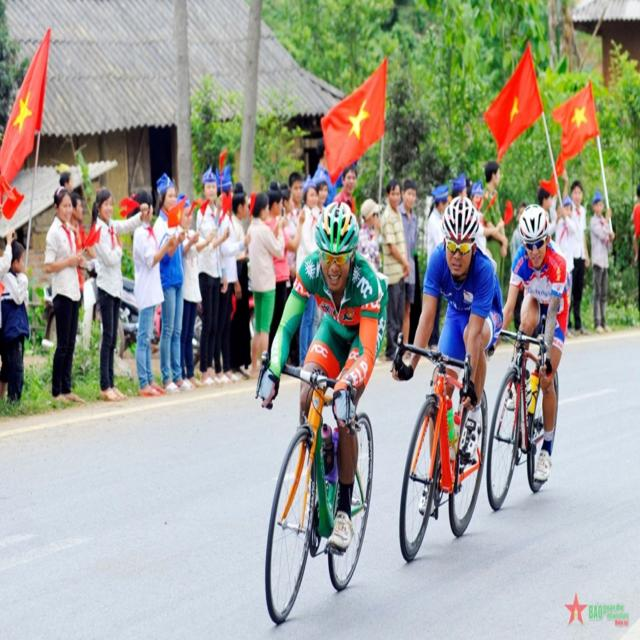1-2-helmet: (315, 202, 360, 255), (441, 196, 479, 241), (518, 204, 549, 243)
